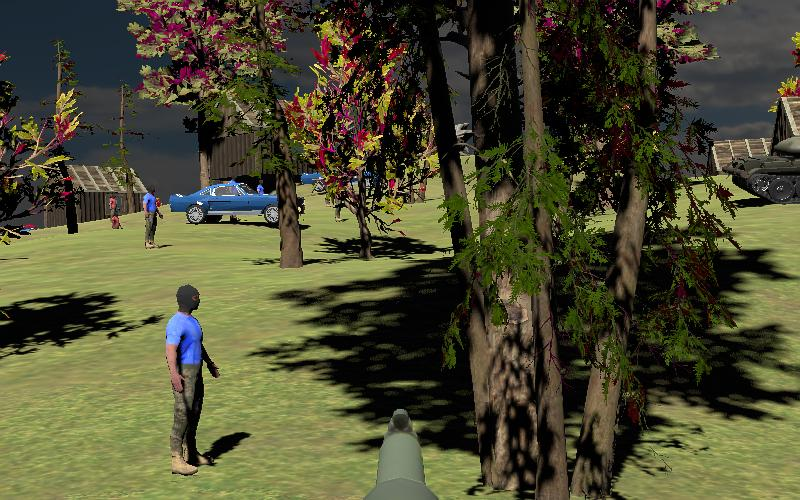House: (708, 136, 770, 176)
Human: (166, 282, 219, 476), (143, 184, 164, 249)
Tank: (728, 132, 800, 206)
car: (168, 178, 301, 226)
